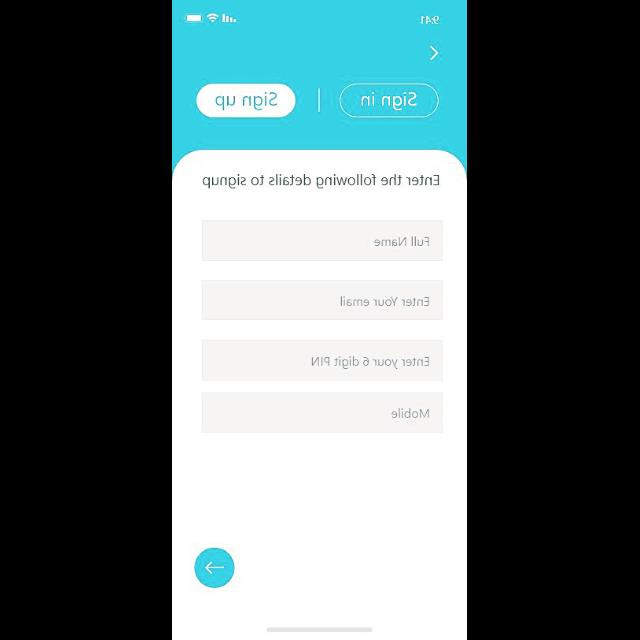icon: (195, 548, 235, 588), (430, 46, 440, 62)
input: (203, 221, 443, 261), (203, 280, 443, 320), (203, 340, 443, 380), (203, 393, 443, 433)
text: (202, 175, 440, 189), (312, 356, 430, 369), (340, 296, 430, 306), (374, 237, 430, 247), (392, 408, 430, 419)
textbutton: (340, 84, 440, 118), (196, 84, 296, 118)
uppertaskbar: (184, 13, 440, 25)
